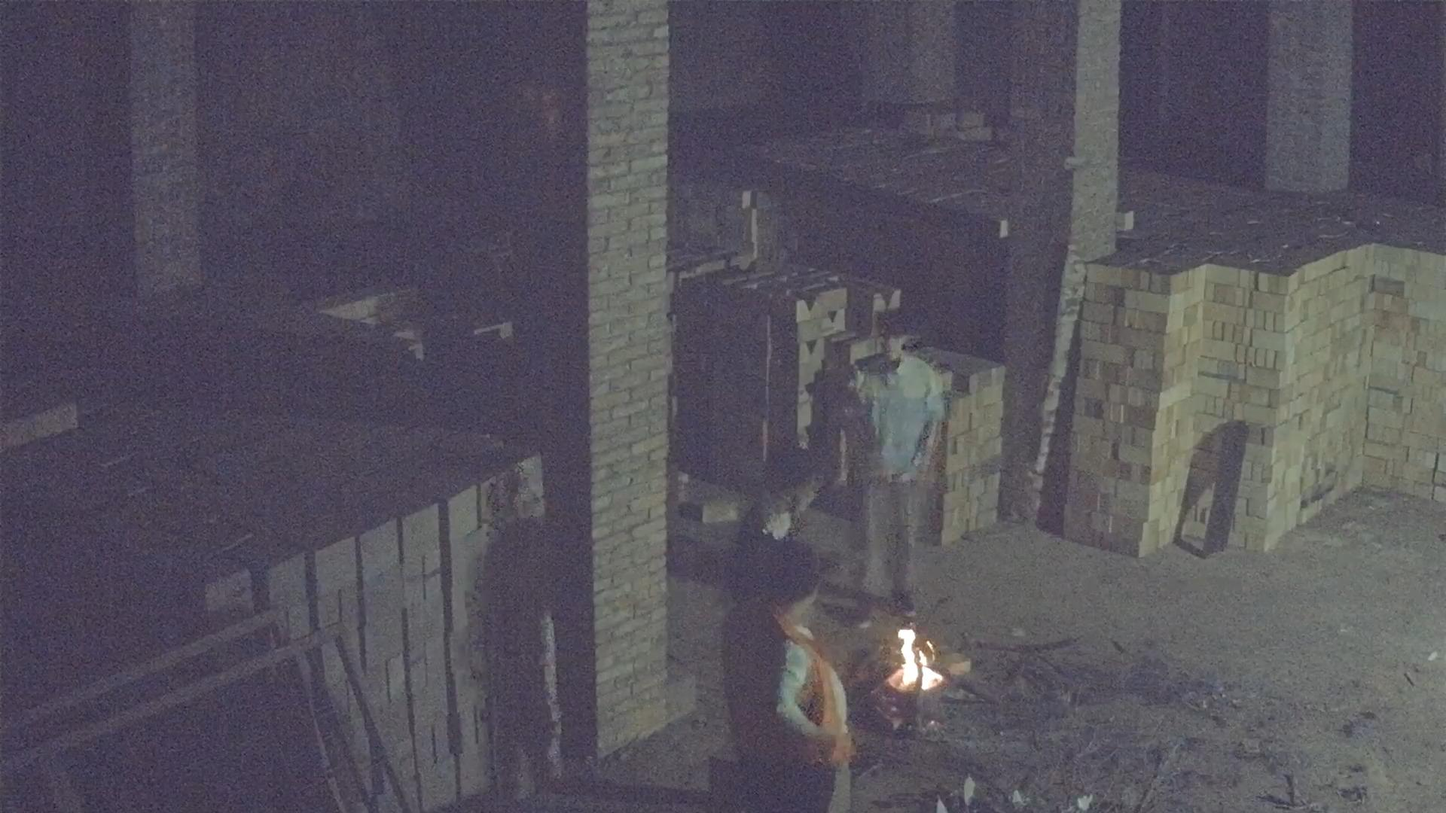fire: (893, 628, 942, 691)
